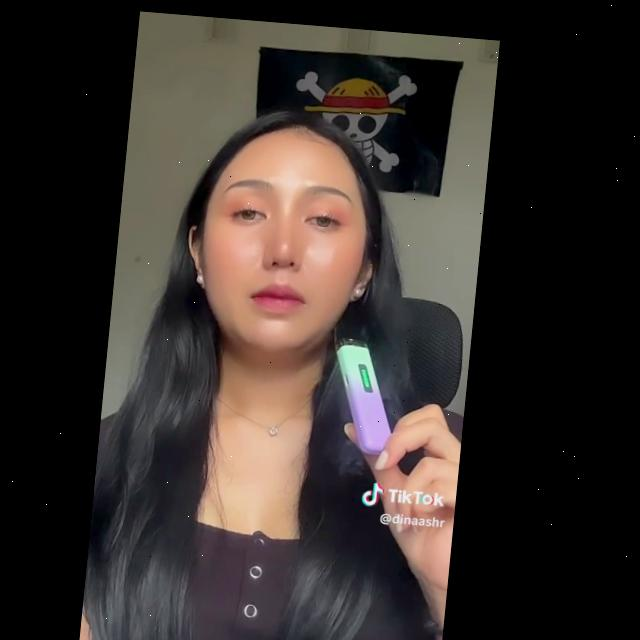vape: (330, 309, 410, 456)
